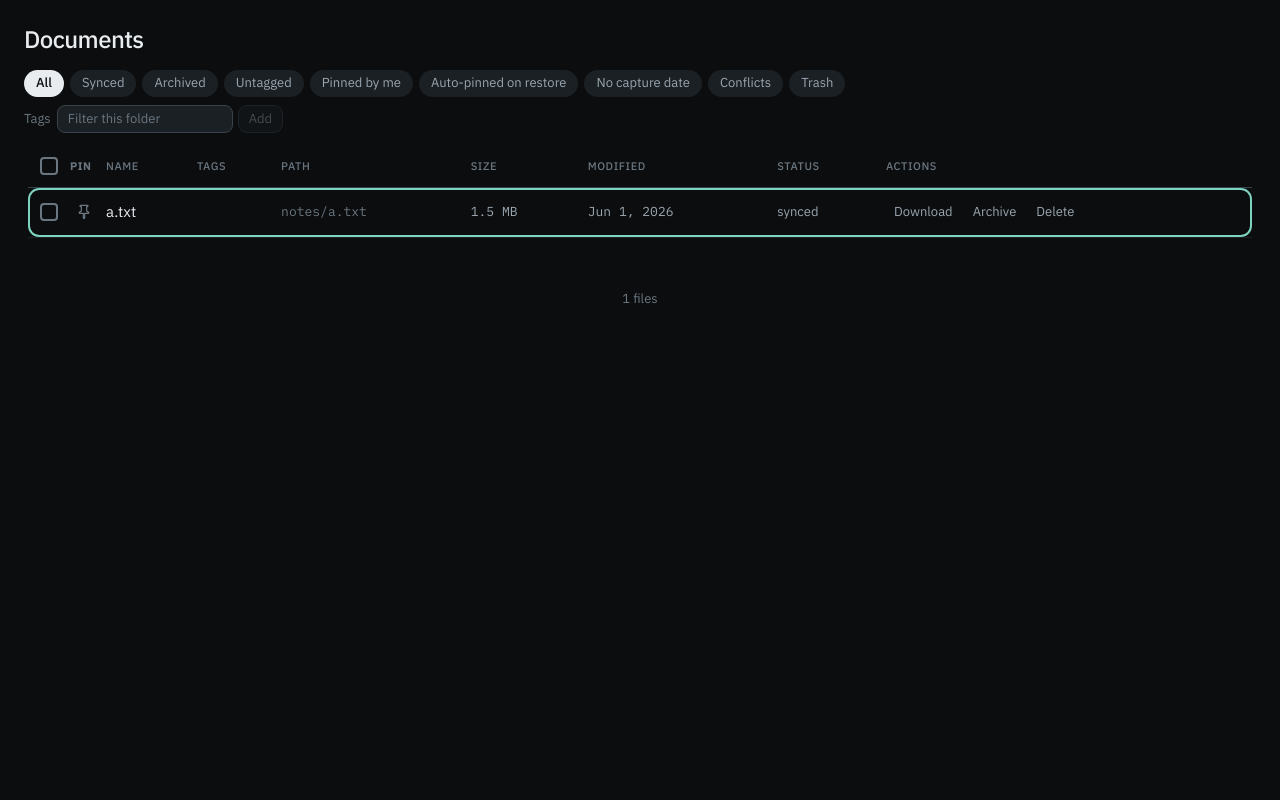
Test: FileBrowser › should rename a file in place from its context menu
Expected: the button "a.txt" is shown, [106,201,136,224]
Step 1. Right-click the row that starts with "a.txt" → [640, 212], box [28,188,1252,237]
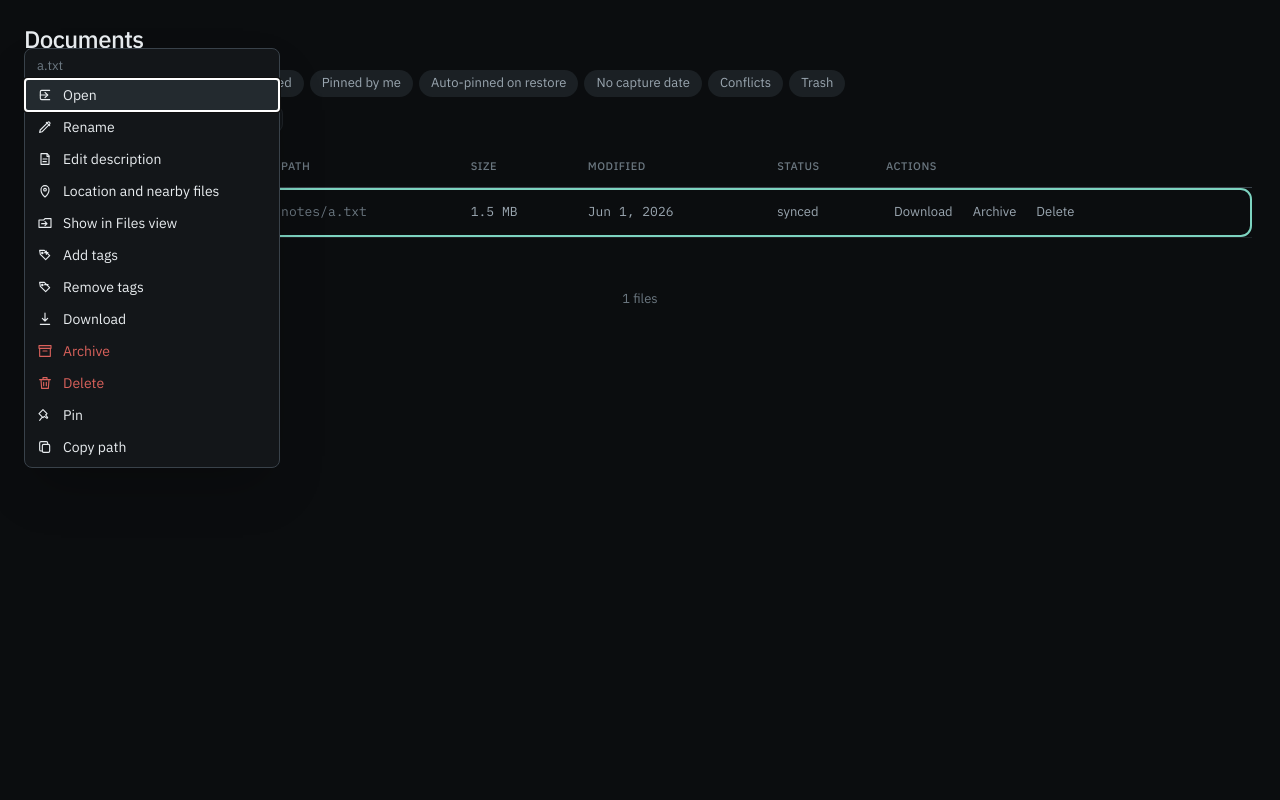
Step 2. Click the menu item "Rename" → [152, 127], box [25,111,279,143]
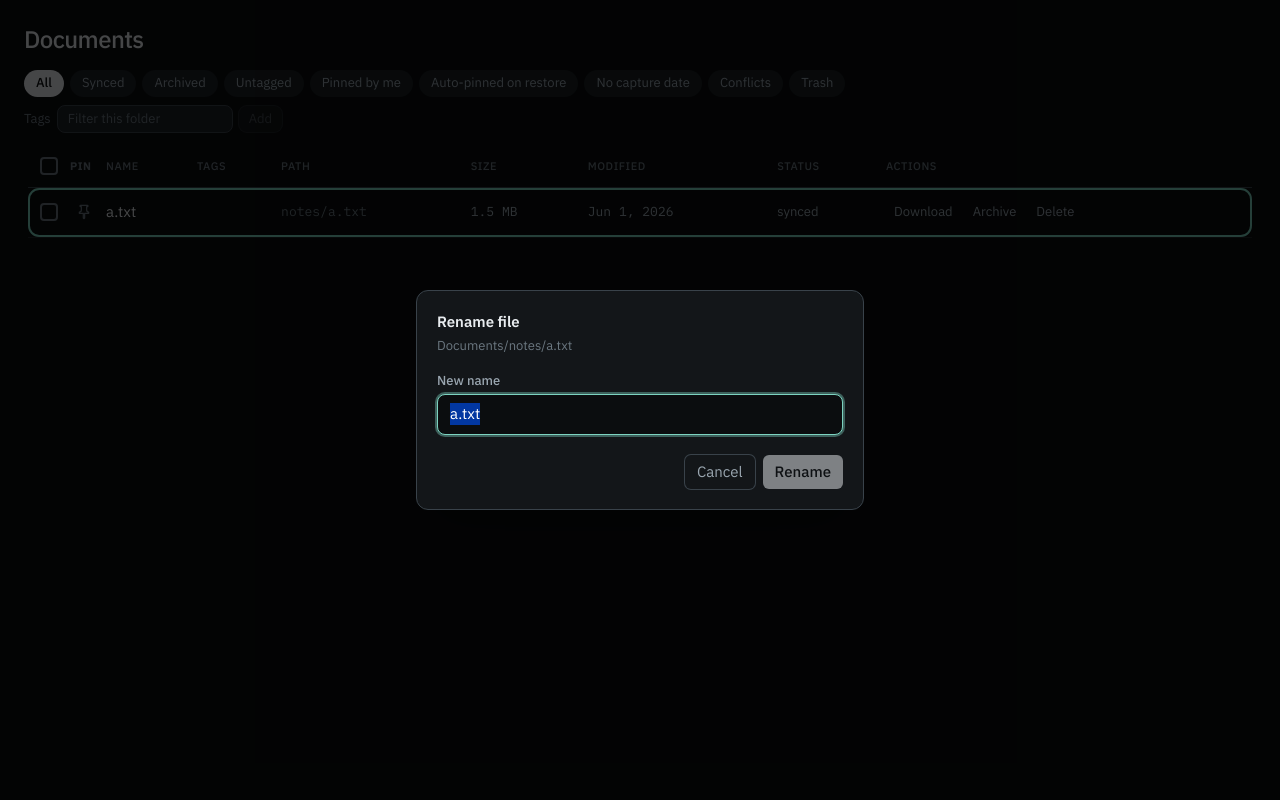
Step 3. Replace the text in the field named "New name for a.txt" with "renamed.txt" → [640, 414], box [437,394,843,435]
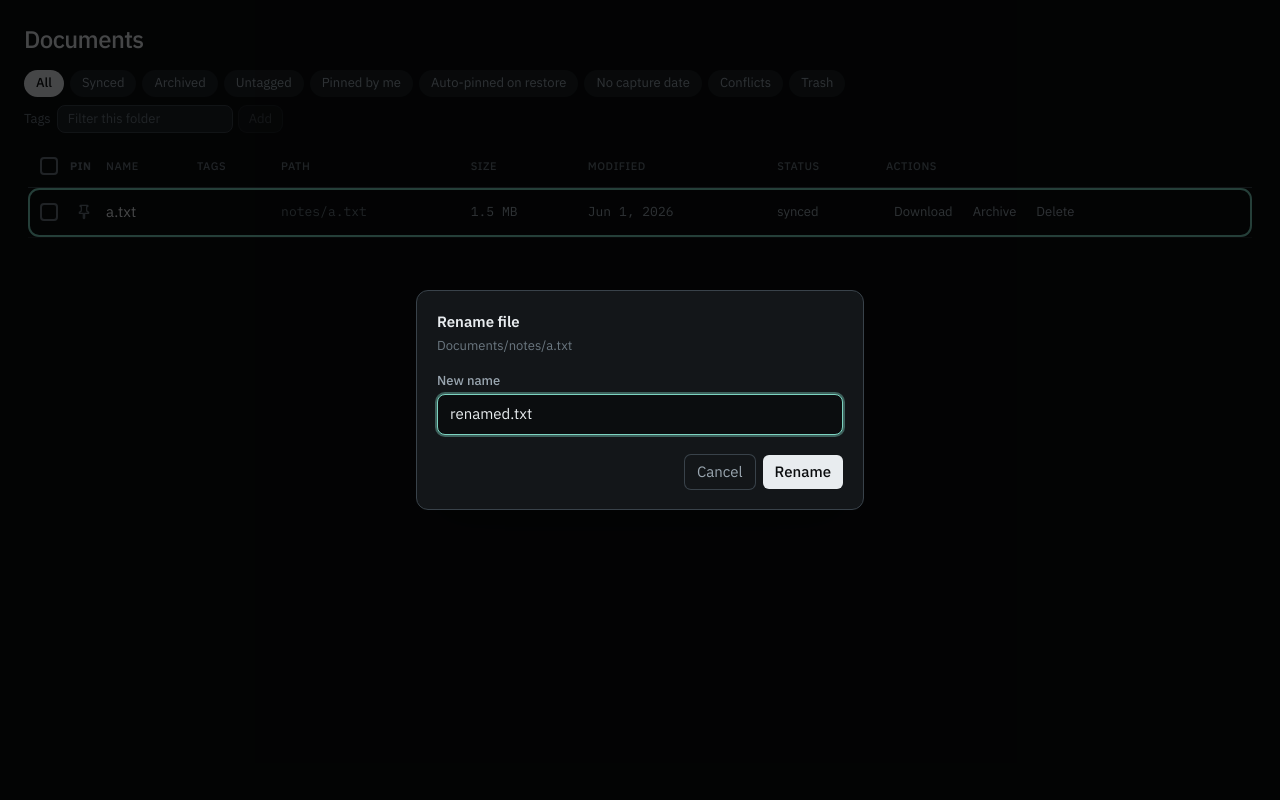
Step 4. Click the button "Rename" → [803, 472], box [763,455,843,489]
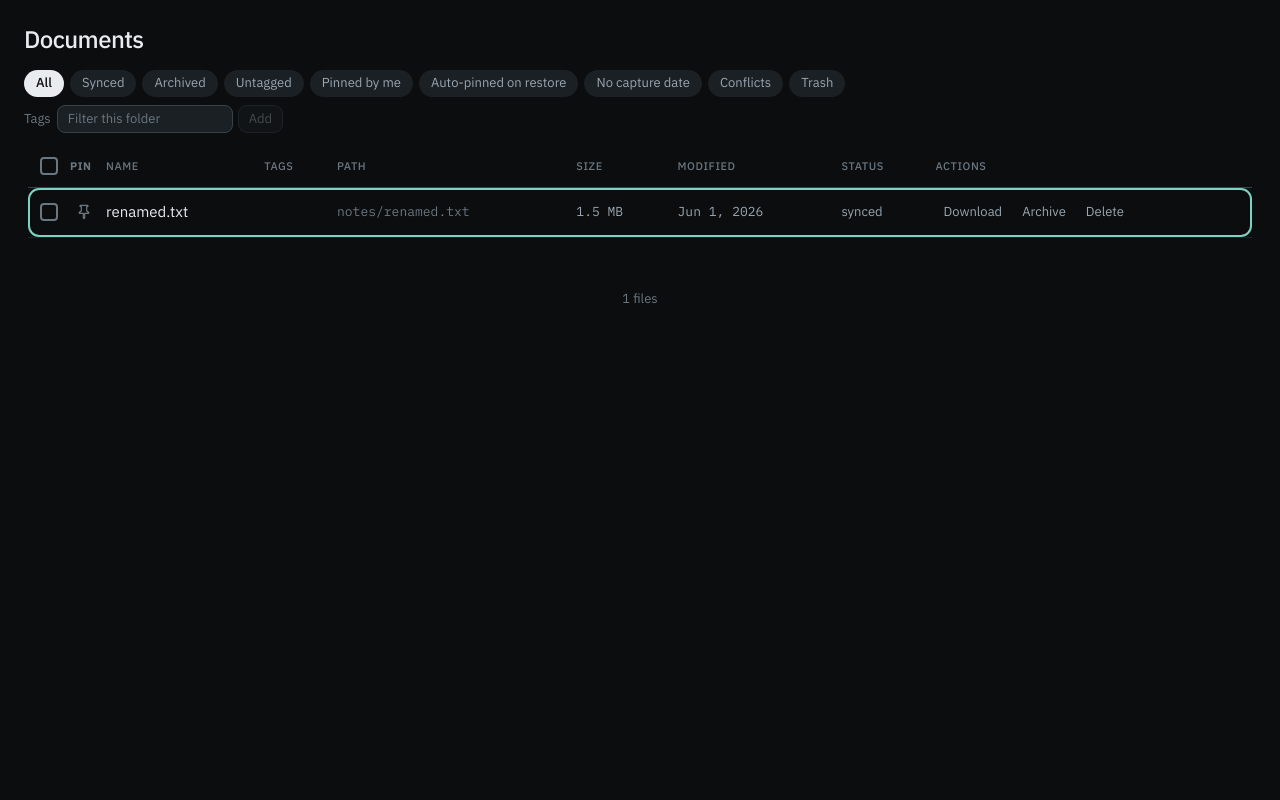
Now the button "renamed.txt" is shown, box [106,201,188,224]
